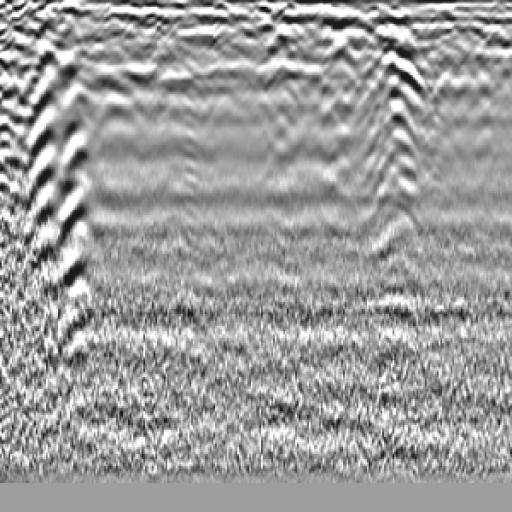metalic: (367, 30, 433, 245)
